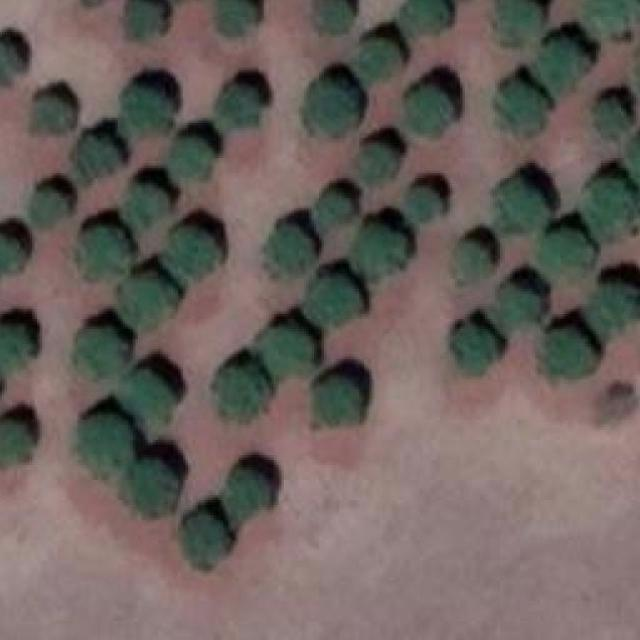Tree: (259, 319, 324, 382), (311, 364, 366, 433), (303, 69, 356, 138), (583, 181, 638, 247), (165, 216, 220, 282), (74, 409, 133, 470), (532, 226, 596, 282), (215, 354, 269, 420), (125, 455, 185, 513), (353, 213, 407, 277), (304, 271, 359, 329), (122, 264, 175, 324), (494, 274, 548, 332), (494, 77, 548, 133), (213, 75, 269, 129), (492, 178, 553, 227), (79, 223, 133, 277), (269, 221, 314, 285), (406, 82, 462, 133), (72, 327, 128, 377), (123, 77, 168, 138), (591, 278, 640, 334), (24, 173, 73, 229), (122, 367, 175, 418), (547, 327, 598, 377), (167, 125, 220, 173), (537, 32, 588, 81), (225, 465, 276, 513), (180, 508, 221, 564), (354, 135, 400, 183), (316, 180, 361, 229), (76, 131, 120, 181), (123, 181, 168, 227), (363, 37, 407, 83), (32, 89, 73, 138), (450, 238, 498, 279), (589, 0, 640, 37), (496, 0, 543, 39), (459, 312, 492, 367), (123, 0, 168, 39), (593, 94, 628, 143), (0, 414, 35, 460), (0, 321, 32, 369), (213, 0, 254, 37), (0, 226, 32, 272), (404, 184, 442, 222), (404, 0, 445, 35), (314, 0, 349, 27), (0, 39, 17, 88)
